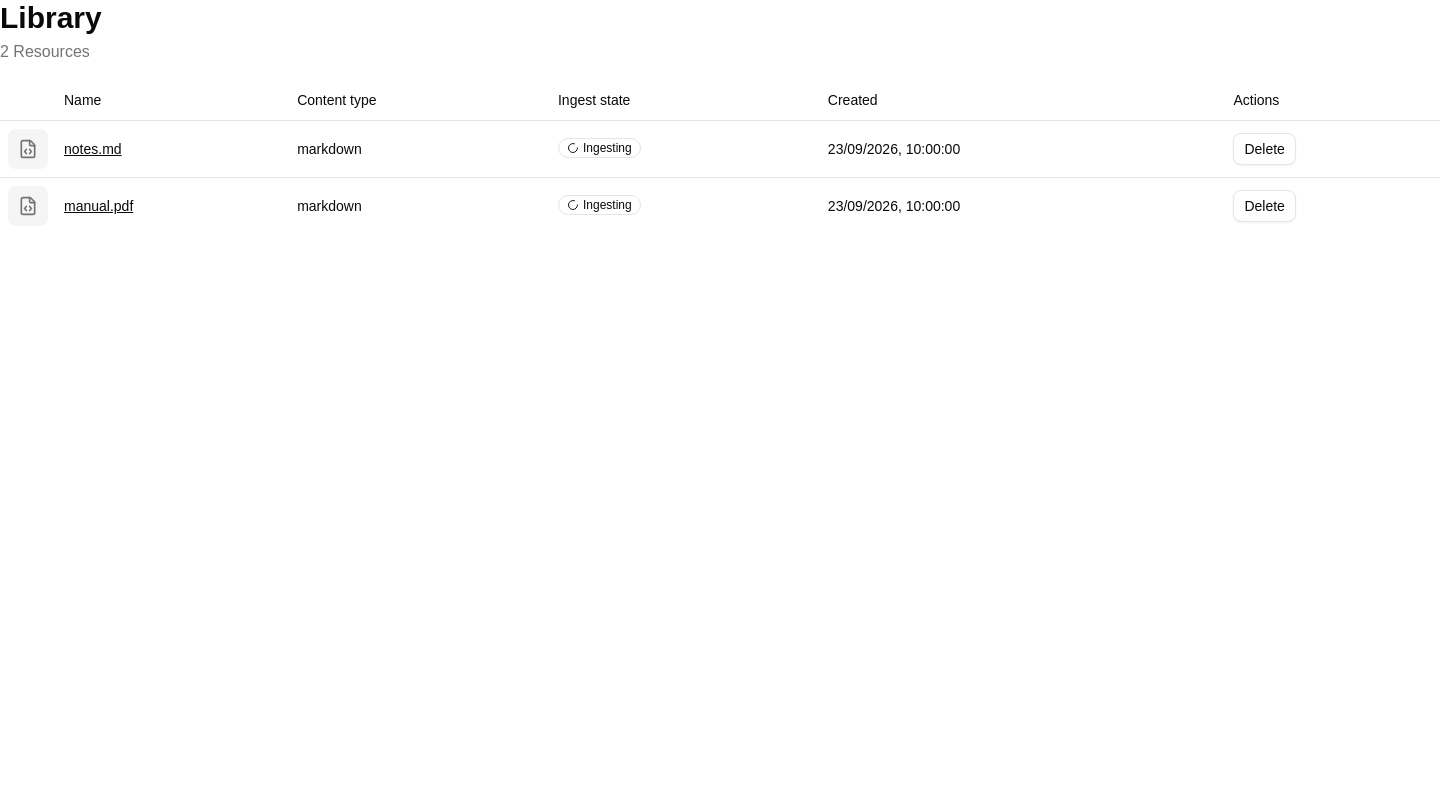
Scenario: LibrarySection › Delete › should remove the text of an earlier Refusal when a Delete succeeds
The width and height of the screenshot is (1440, 810).
Click the button with aria-label "Delete notes.md": {"x": 1265, "y": 148} left=1233, top=132, right=1296, bottom=164
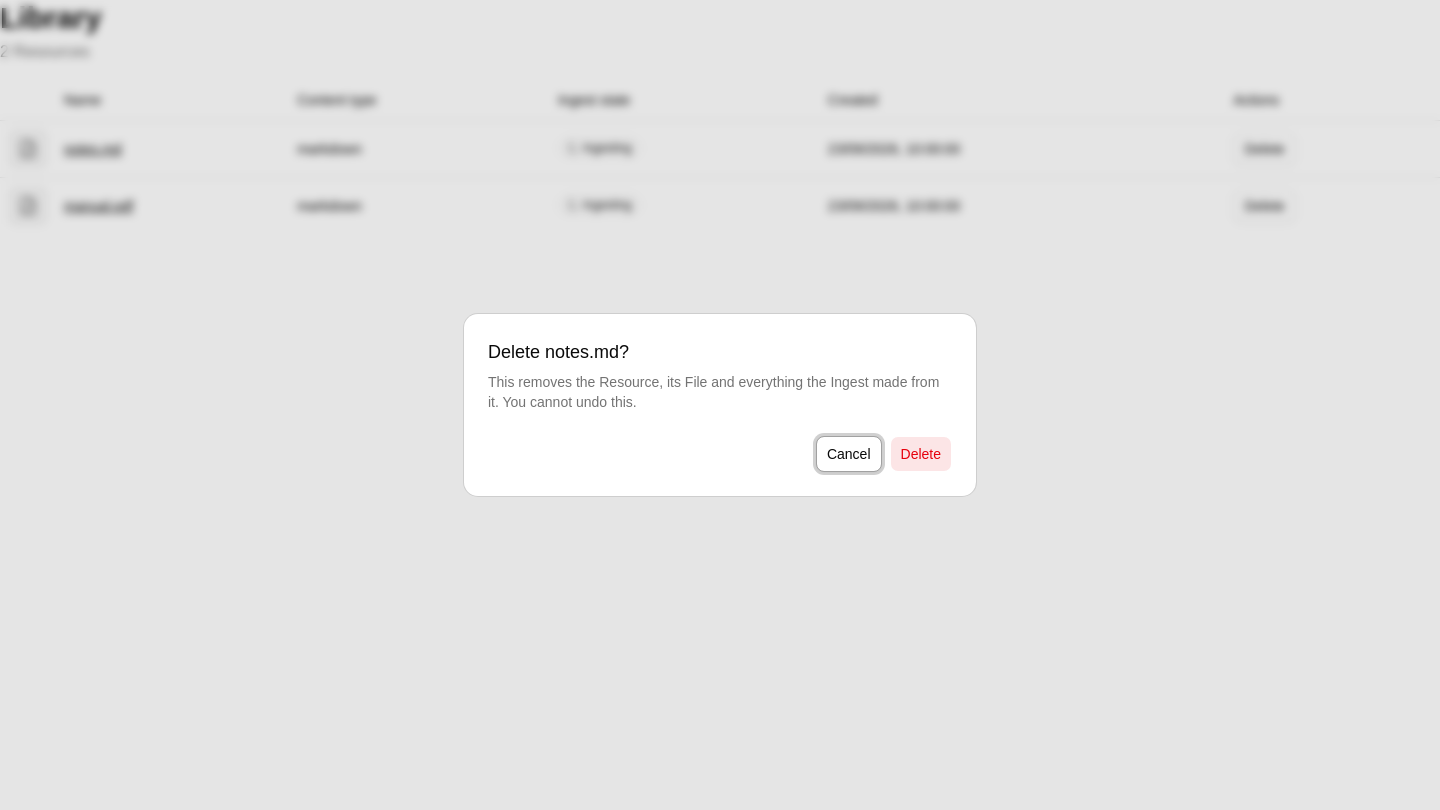
Click the button "Delete": {"x": 921, "y": 454} left=890, top=436, right=952, bottom=472
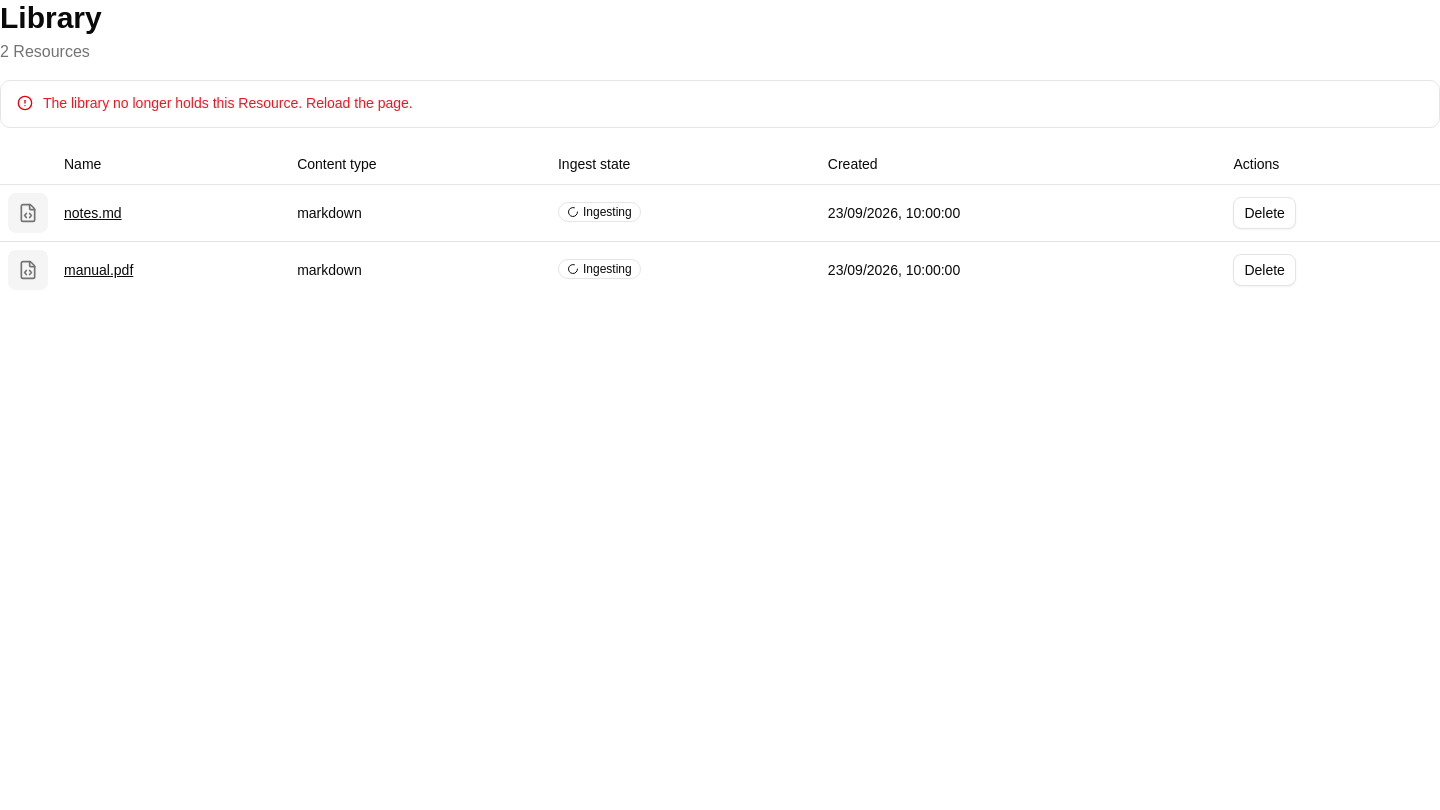
Check: the message "The library no longer holds this Resource. Reload the page." is shown, box left=0, top=80, right=1439, bottom=128
Click the button with aria-label "Delete notes.md": {"x": 1265, "y": 212} left=1233, top=196, right=1296, bottom=228
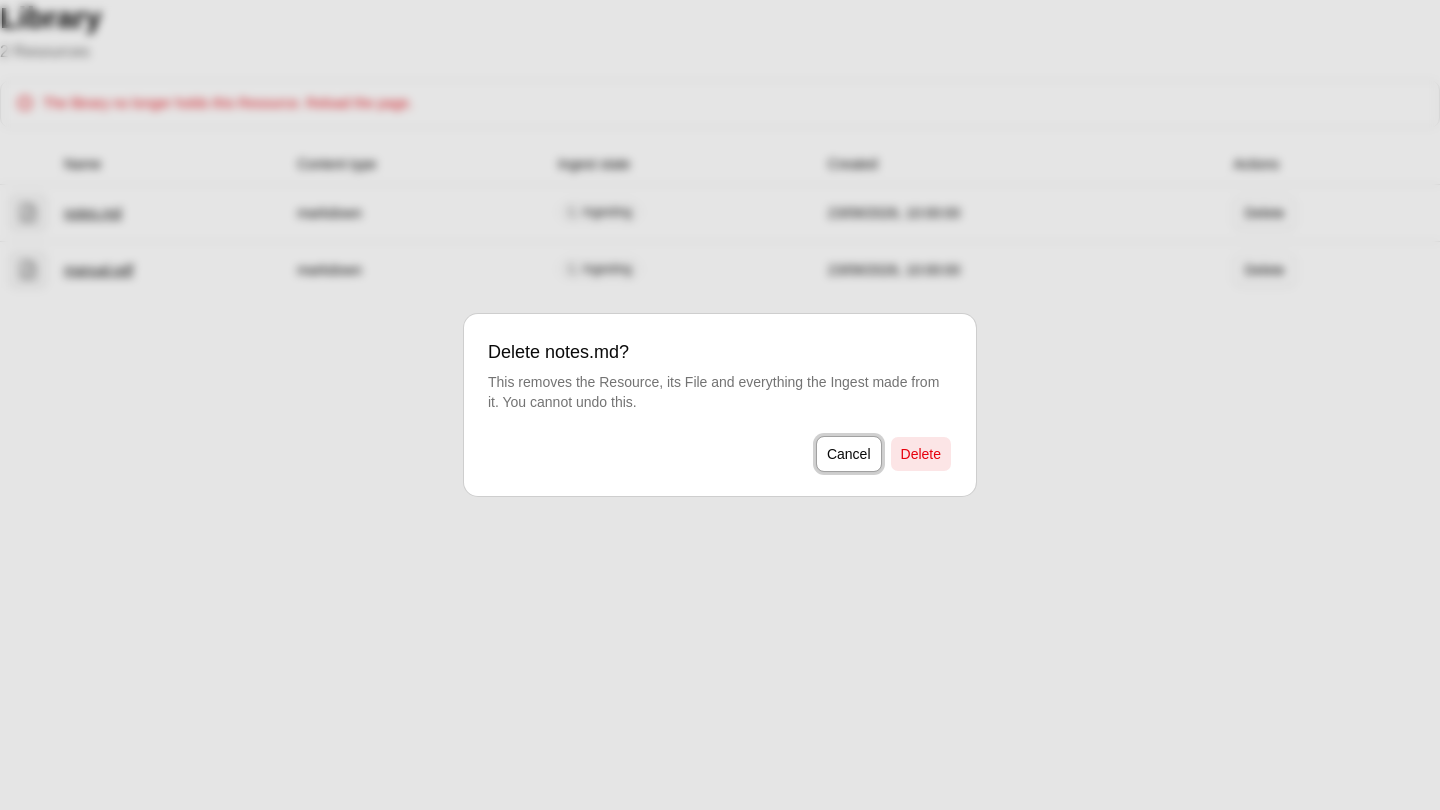
Click the button "Delete": {"x": 921, "y": 454} left=890, top=436, right=952, bottom=472
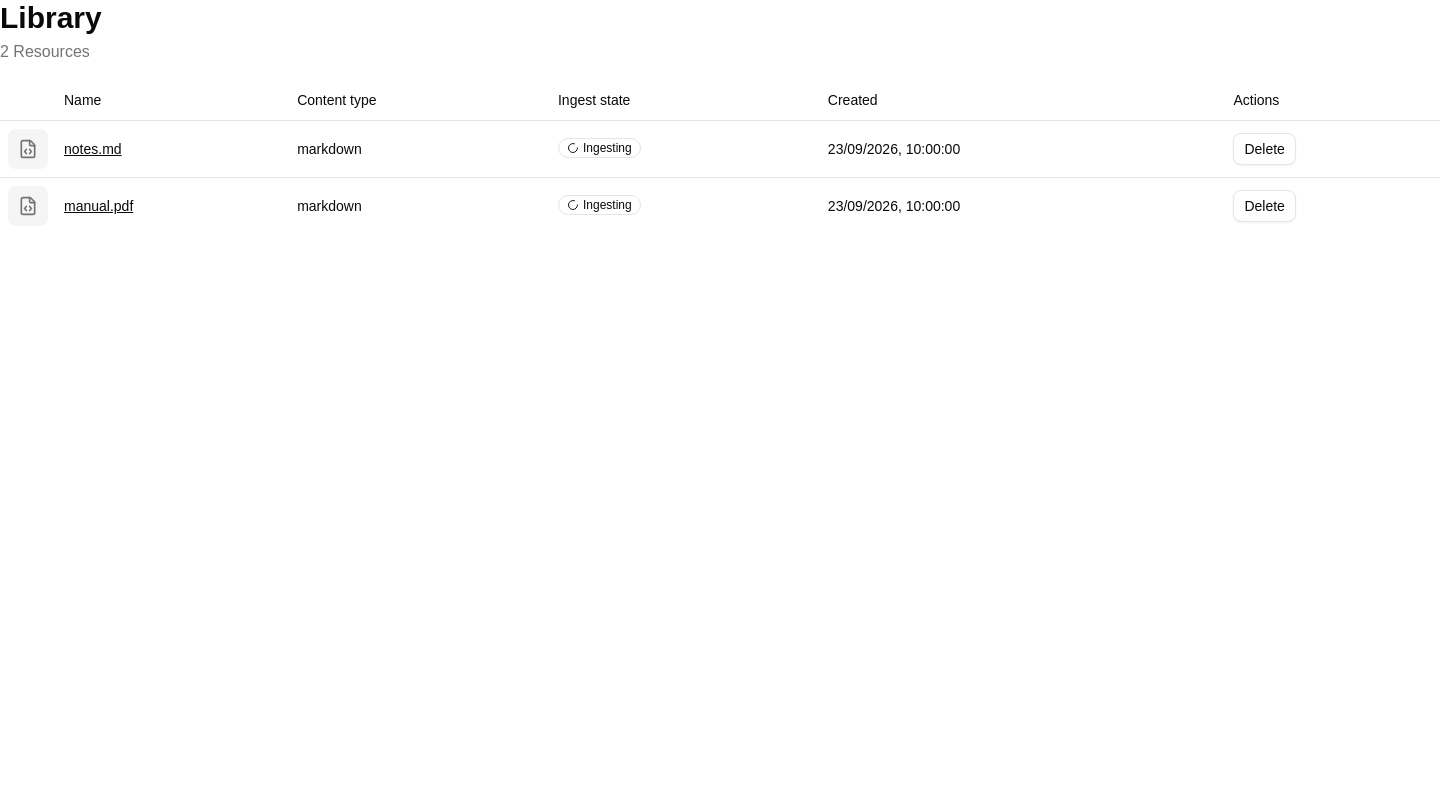
Check: the message "The library no longer holds this Resource. Reload the page." is gone
